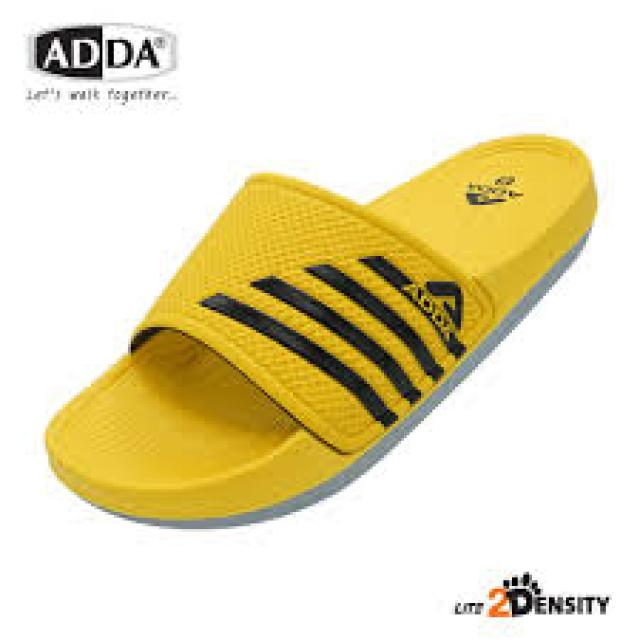shoe: (37, 132, 588, 533)
